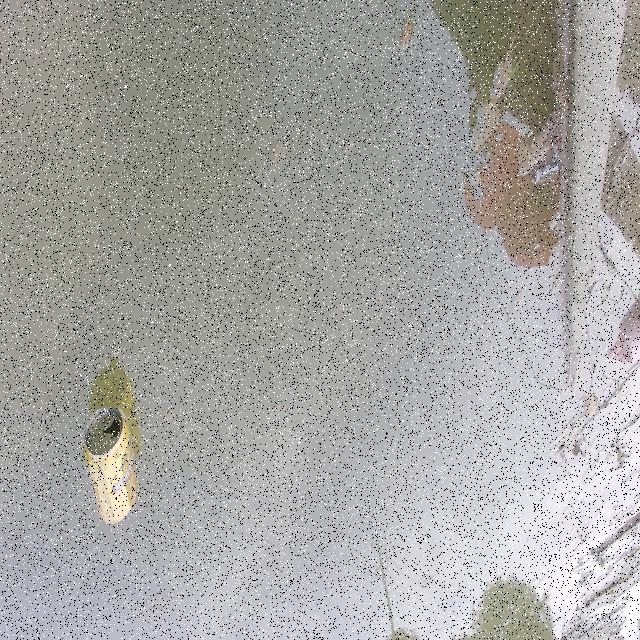Can: (80, 401, 140, 526)
